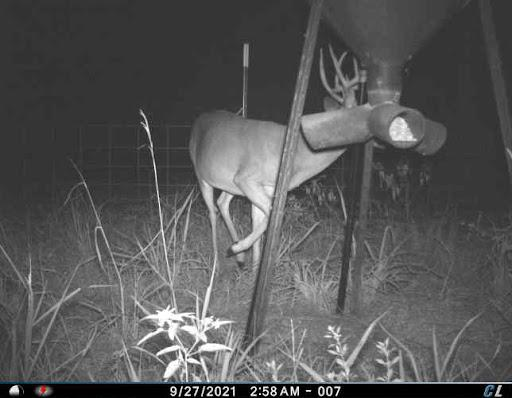Deer: (183, 45, 383, 275)
